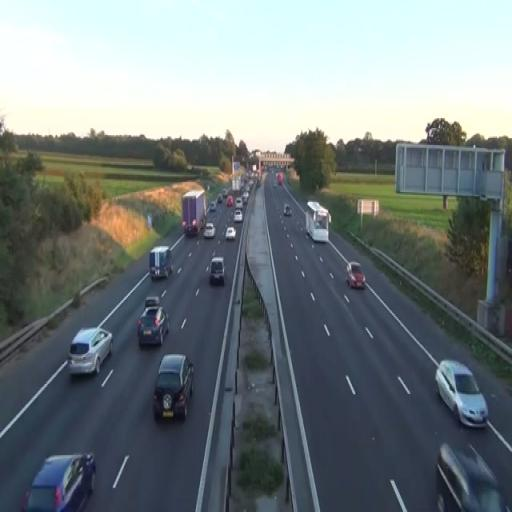Bus: (305, 200, 330, 242)
Car: (434, 442, 508, 511), (22, 453, 96, 511), (434, 359, 489, 429), (153, 354, 194, 423), (68, 326, 113, 377), (136, 306, 170, 347), (344, 262, 366, 288), (210, 255, 226, 285), (204, 222, 216, 239), (226, 226, 236, 240), (233, 209, 243, 223)
Truck: (182, 188, 206, 236)
